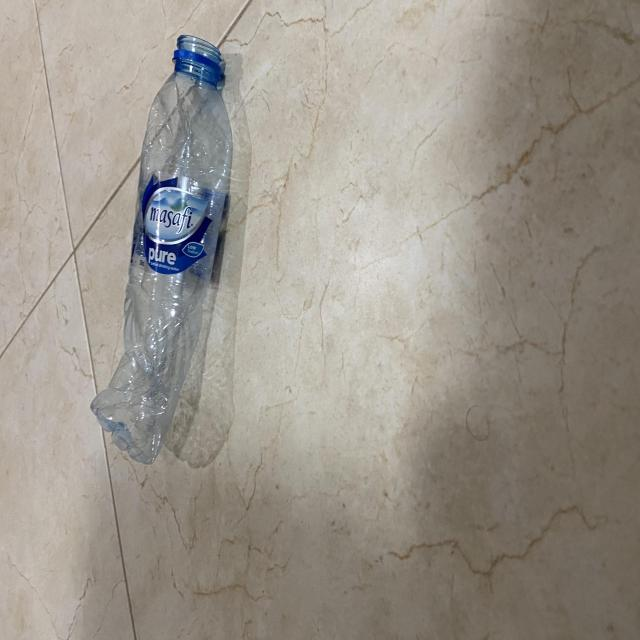plastic: (86, 31, 235, 470)
